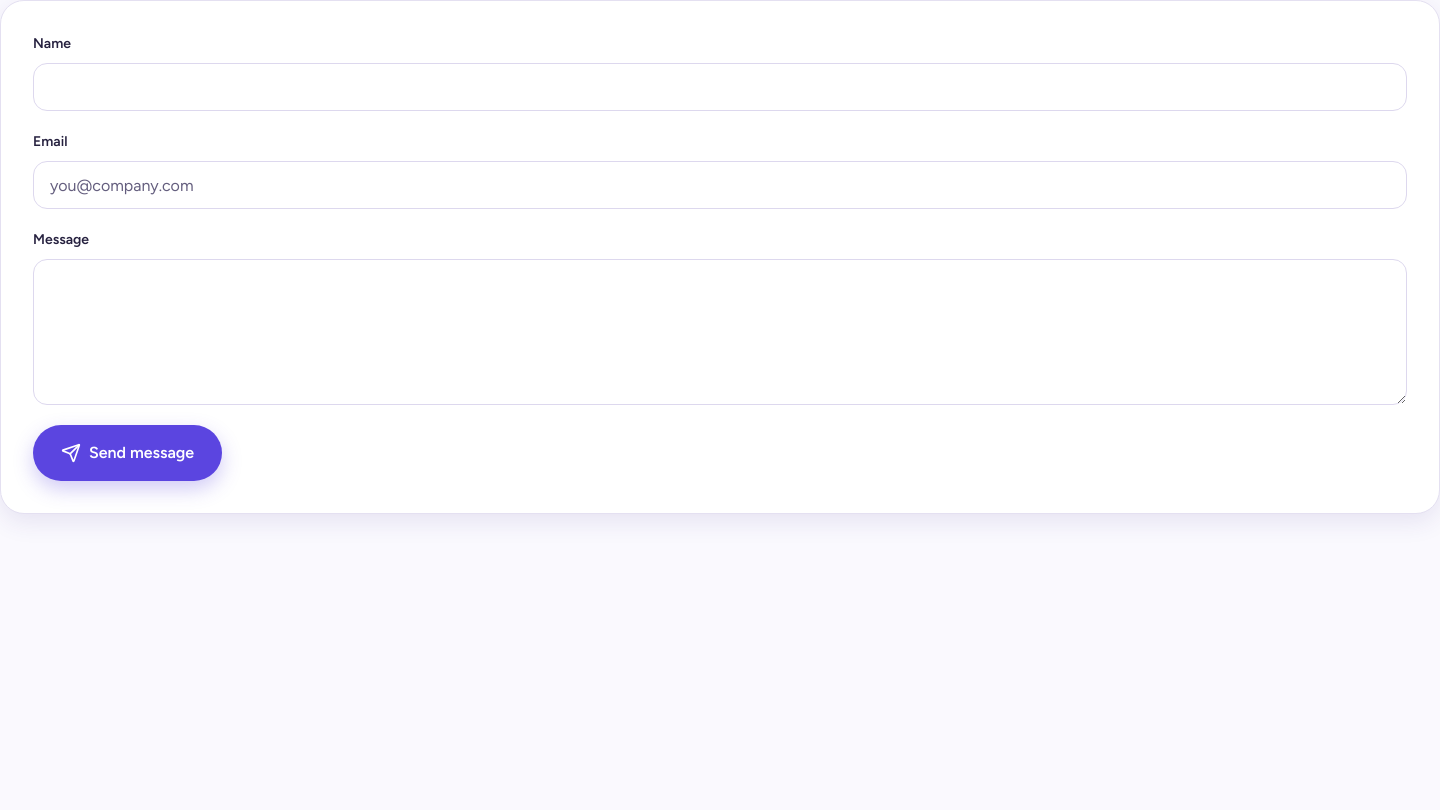
Scenario: ContactForm failure notice › mounts one alert with the words and the address when a send fails
The width and height of the screenshot is (1440, 810).
Type "Ada" into the field labelled "Name" at (720, 87), box [33,63,1407,111]
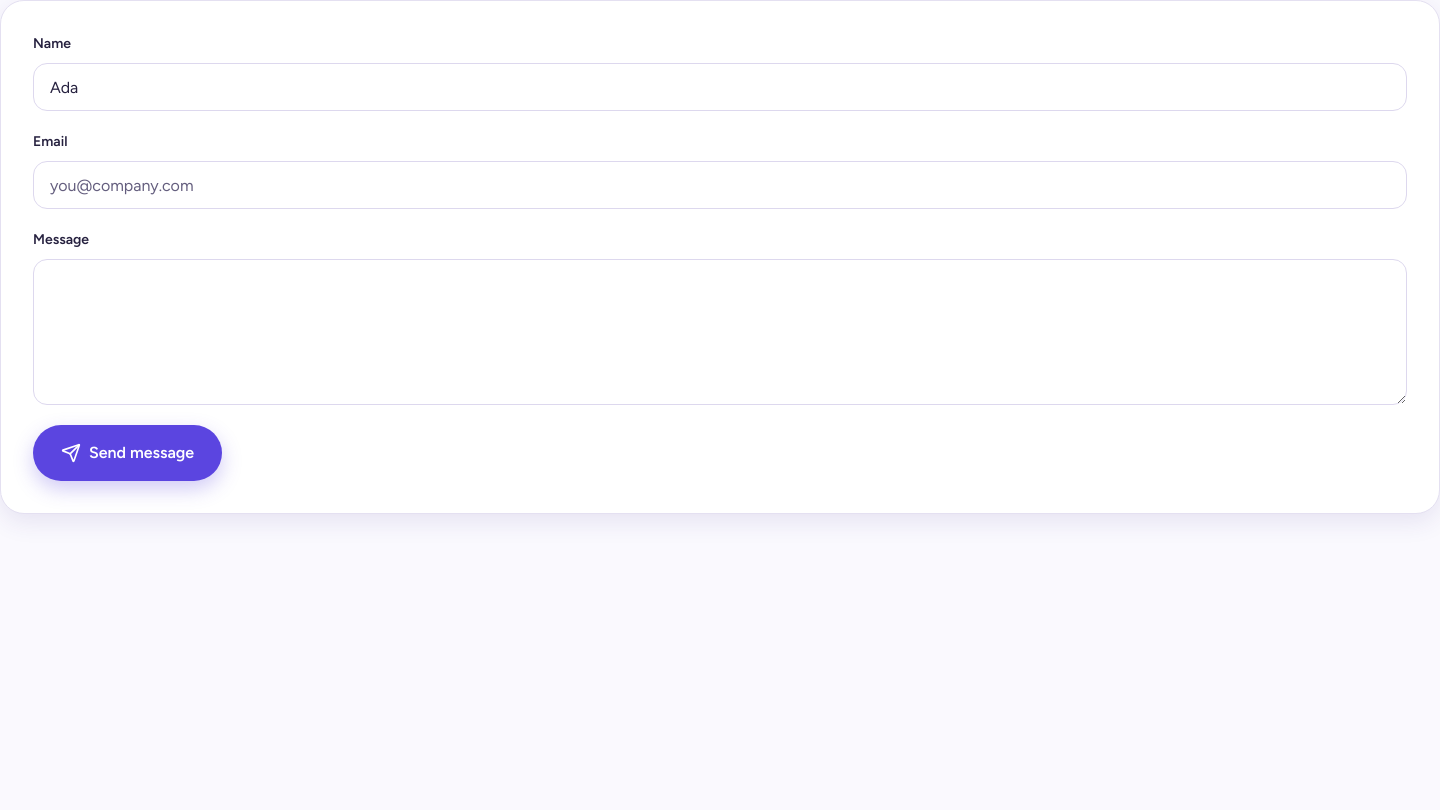
Press x in the field labelled "Name", box [33,63,1407,111]
Type "ada@example.com" into the field labelled "Email" at (720, 185), box [33,161,1407,209]
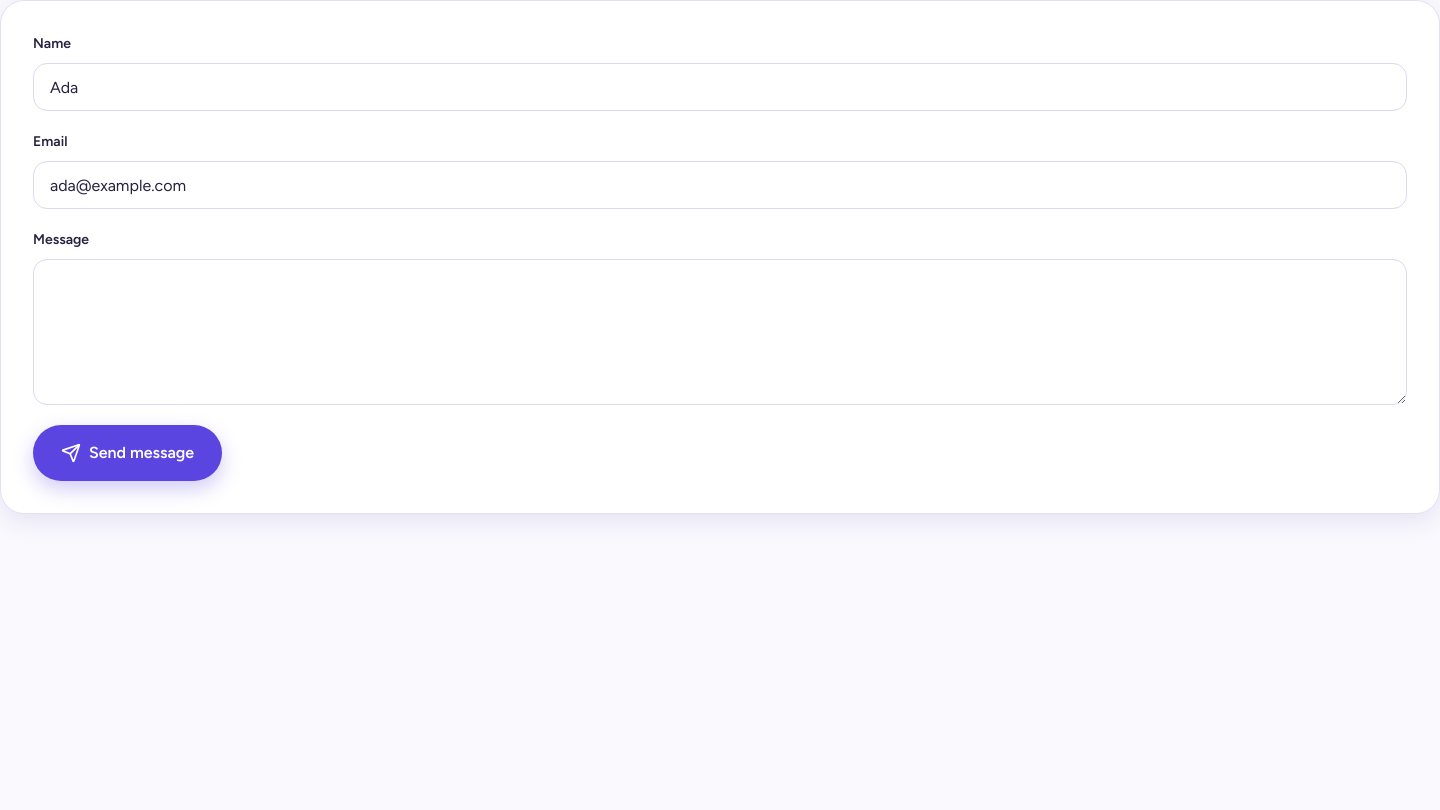
Press x in the field labelled "Email", box [33,161,1407,209]
Type "Hello there" into the text box labelled "Message" at (720, 332), box [33,259,1407,405]
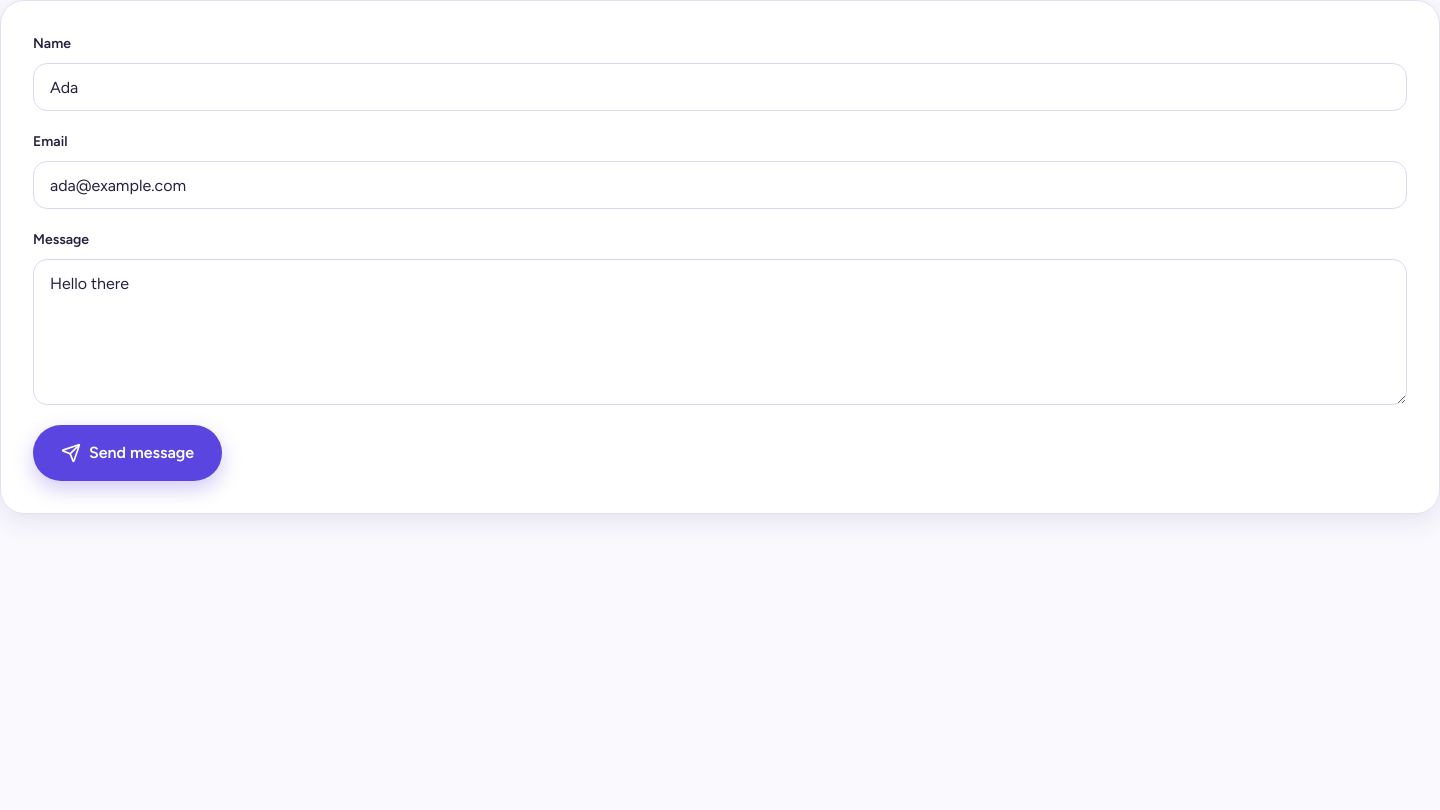
Press x in the text box labelled "Message", box [33,259,1407,405]
Submit the form, box [33,33,1407,481]
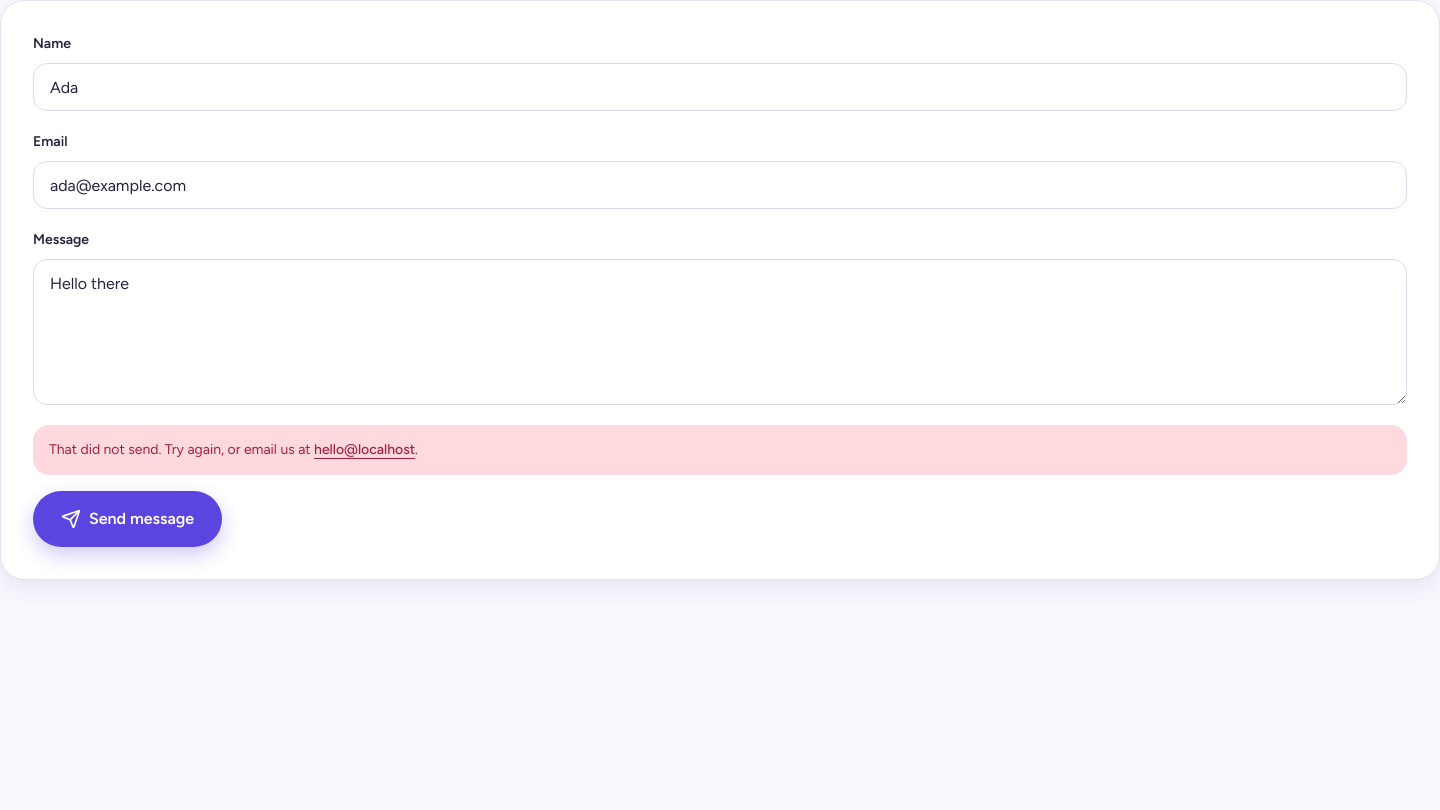
expect the message "That did not send. Try again, or email us at hello@localhost ." is shown: met, box [33,425,1407,475]
